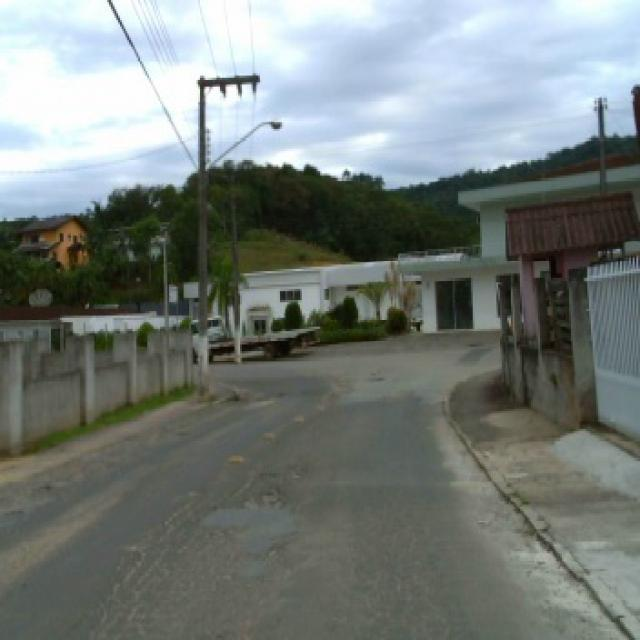Poth-hole: (84, 486, 205, 636), (190, 486, 298, 576), (0, 504, 25, 517), (30, 480, 54, 493), (222, 391, 246, 400), (254, 469, 276, 478), (226, 451, 243, 460), (366, 373, 386, 380), (173, 428, 189, 436), (251, 393, 269, 400), (260, 428, 275, 436), (272, 388, 286, 396), (291, 413, 304, 420)
